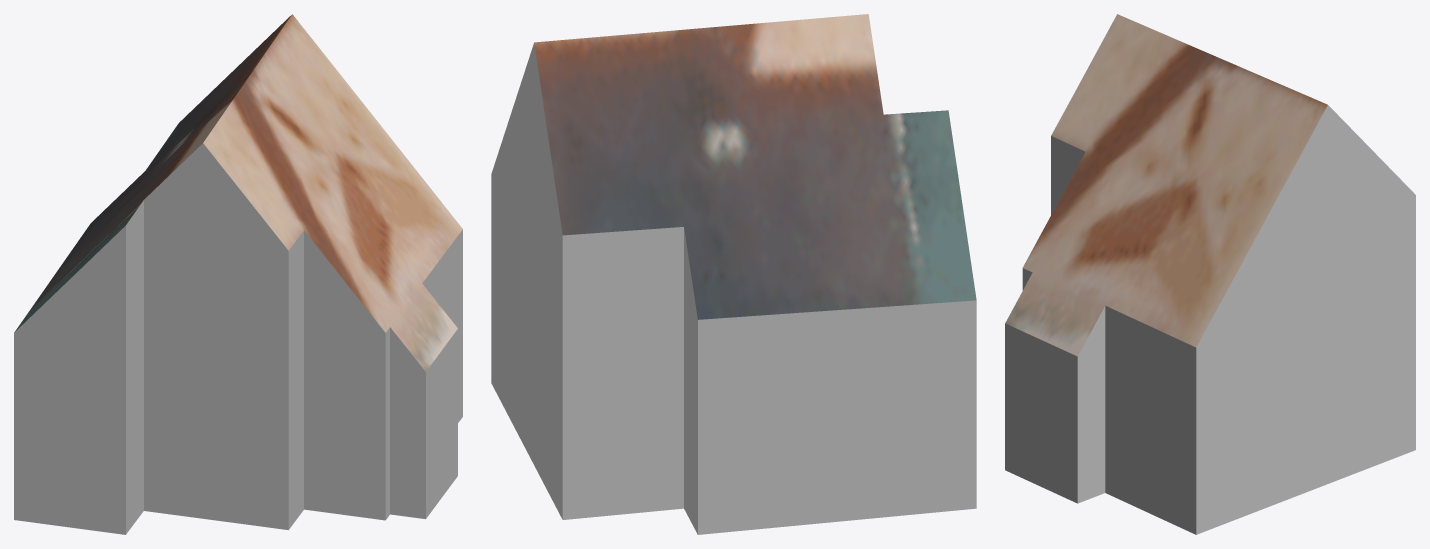
File: DEBW_0010007Txbo.gltf
3 renders of one model, left to right at view 1: azimuth 30°, elevation 25°; view 2: azimuth 150°, elevation 25°; view 3: azimuth 270°, elevation 25°, orthographic. The views are drawn at different scales.
Parts seen in each view (by area): view 1: Z_UP; view 2: Z_UP; view 3: Z_UP.
Part boxes in pixels (bbox=[...]): Z_UP: bbox=[14, 14, 462, 534]; Z_UP: bbox=[491, 14, 976, 534]; Z_UP: bbox=[1005, 14, 1415, 534].
Bounding box in the file's own units: 20.53 × 16.85 × 16.53.
Materials: 2 (1 with a texture image).
